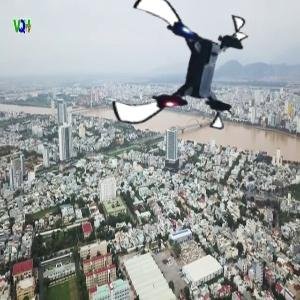drone: (111, 1, 248, 138)
